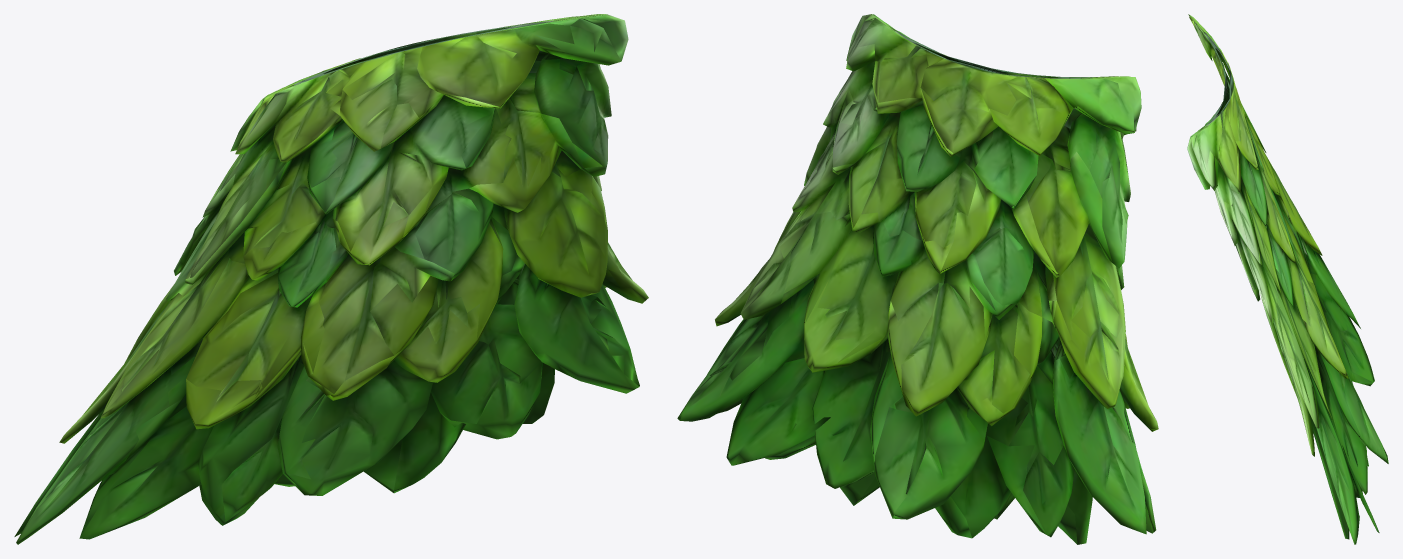
Rendered from cs-leaf-cape.glb.
3 renders of one model, left to right at view 1: azimuth 30°, elevation 25°; view 2: azimuth 150°, elevation 25°; view 3: azimuth 270°, elevation 25°, orthographic. The views are drawn at different scales.
Parts seen in each view (by area): view 1: tripo_node_775cef6b-dc7f-4afa-91af-d6383b8b6745; view 2: tripo_node_775cef6b-dc7f-4afa-91af-d6383b8b6745; view 3: tripo_node_775cef6b-dc7f-4afa-91af-d6383b8b6745.
Part boxes in pixels (left/top/right/bottom): tripo_node_775cef6b-dc7f-4afa-91af-d6383b8b6745: left=14, top=14, right=648, bottom=544; tripo_node_775cef6b-dc7f-4afa-91af-d6383b8b6745: left=677, top=14, right=1158, bottom=544; tripo_node_775cef6b-dc7f-4afa-91af-d6383b8b6745: left=1187, top=14, right=1388, bottom=544.
Size of the model in its own units: 1 by 0.8239 by 0.3815.
Materials: 1 (1 with a texture image).
